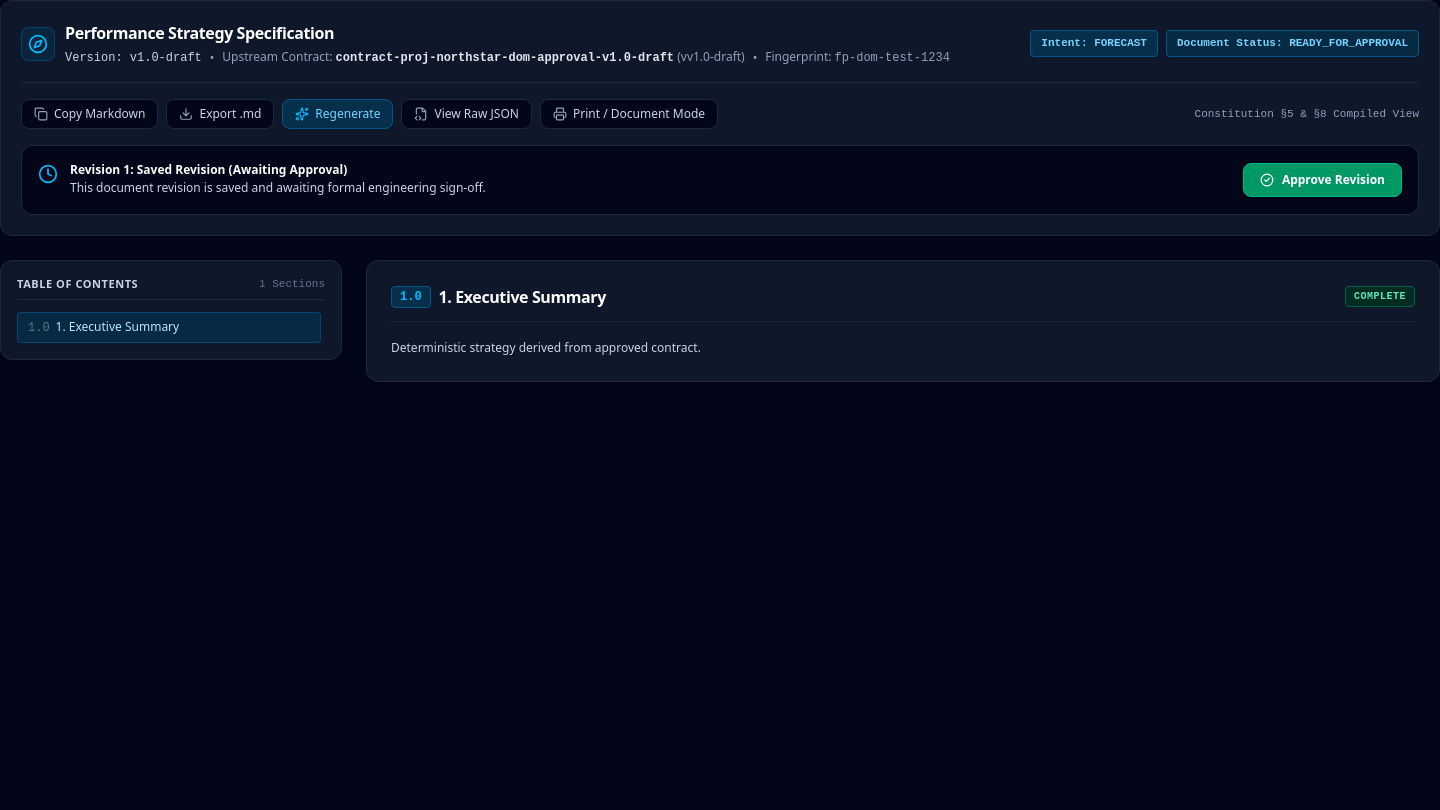
Contract & Artefact Approval Portal DOM Interaction Tests › 3. StrategyPage renders ArtefactDocumentViewer with approval controls and decision rationale
# Clicking "Approve Revision" opens the rationale confirmation modal
Step 1. Click the button "Approve Revision" → click(1322, 180), box x1=1243 y1=163 x2=1402 y2=197
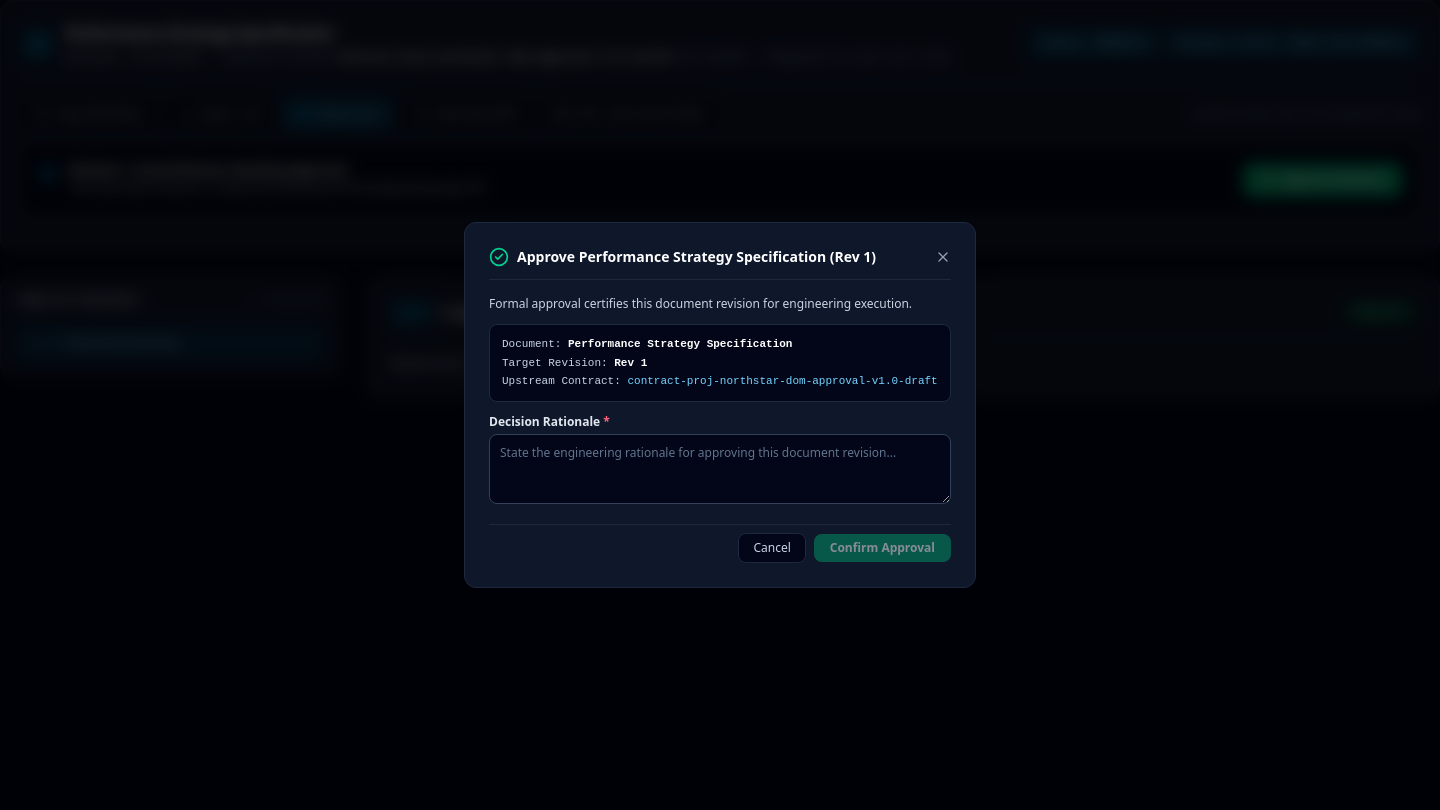
Check: the text "Approve Performance Strategy Specification (Rev 1)" is shown, box x1=517 y1=247 x2=876 y2=267
Check: the text "Decision Rationale" is shown, box x1=489 y1=413 x2=603 y2=430
Check: the text "Confirm Approval" is shown, box x1=814 y1=534 x2=951 y2=562
